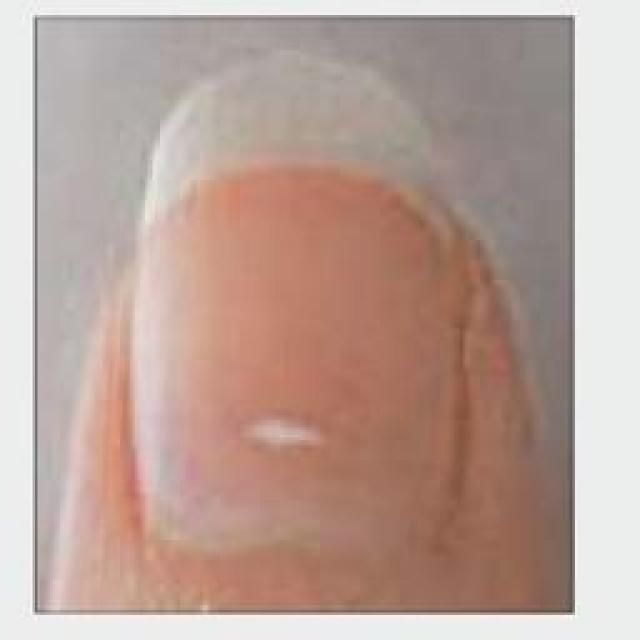Nail: (124, 55, 469, 559)
